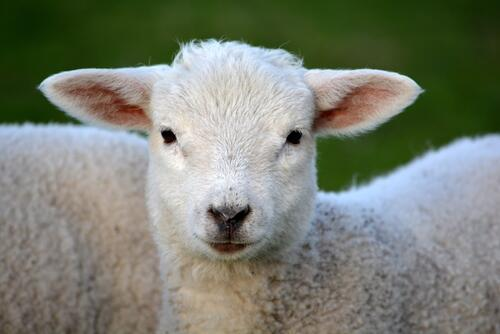sheep: (38, 39, 500, 334), (0, 124, 167, 334)
